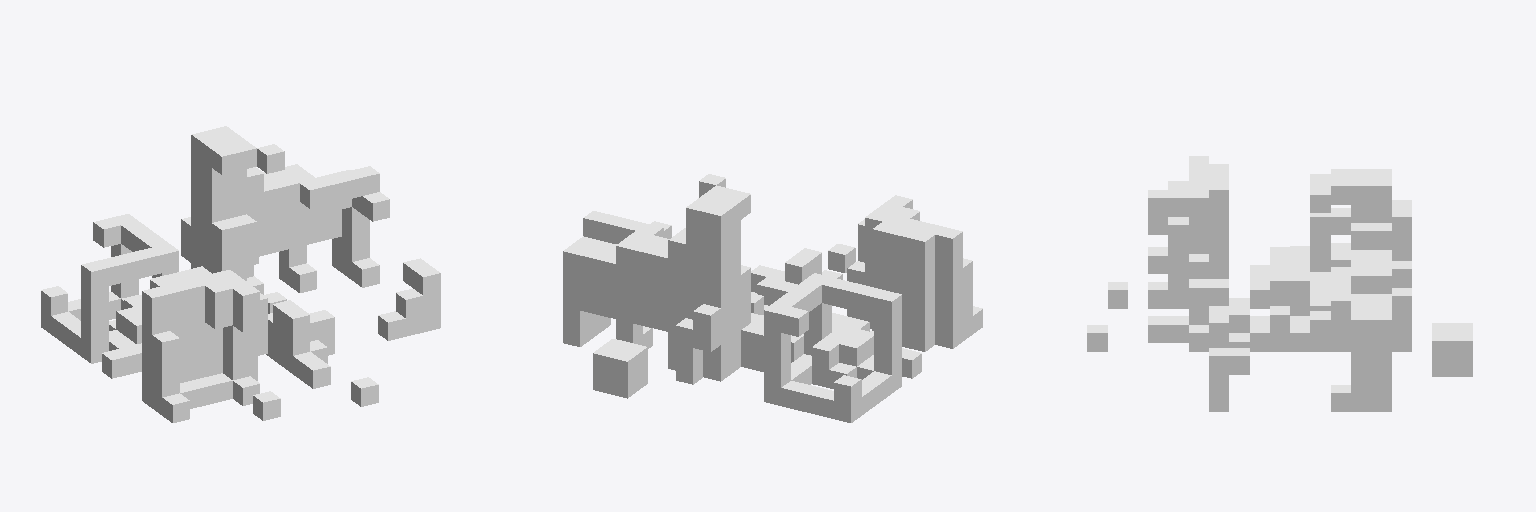
The model's file is ruins1.obj.
3 views of the same model, side by side, from view 1: azimuth 30°, elevation 25°; view 2: azimuth 150°, elevation 25°; view 3: azimuth 270°, elevation 25° (orthographic).
Bounding box in the file's own units: 17 × 9 × 19.